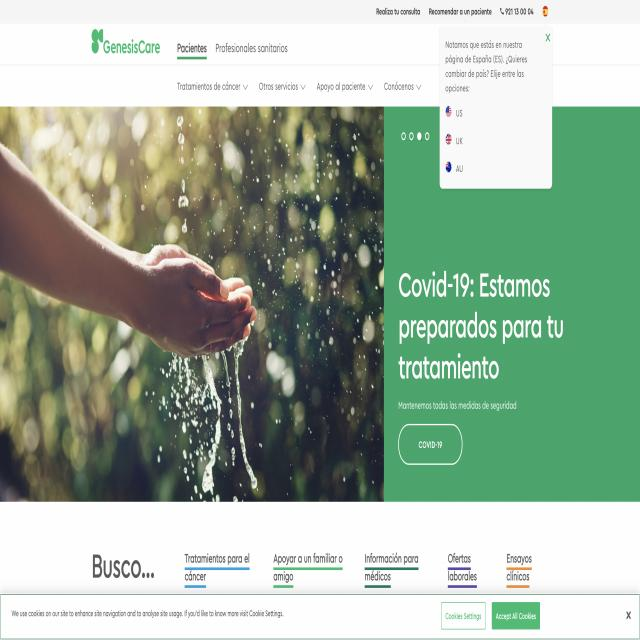Logo: (84, 14, 164, 70)
Navigation: (170, 33, 444, 102)
